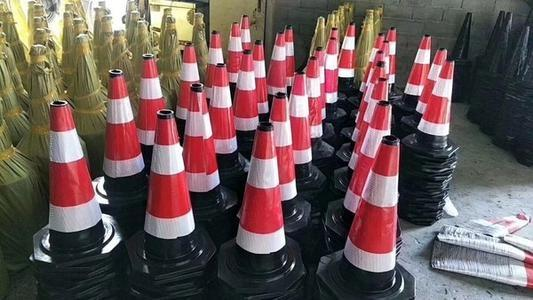cone_barrel: (35, 100, 109, 263), (333, 135, 403, 291), (226, 122, 291, 281), (138, 110, 205, 264), (179, 81, 222, 205), (99, 67, 137, 186), (263, 92, 301, 211), (410, 58, 455, 150), (134, 52, 166, 151), (287, 70, 314, 180), (231, 50, 260, 134), (402, 33, 434, 106), (172, 43, 196, 122), (264, 30, 287, 99), (336, 19, 356, 94), (324, 37, 338, 107)
